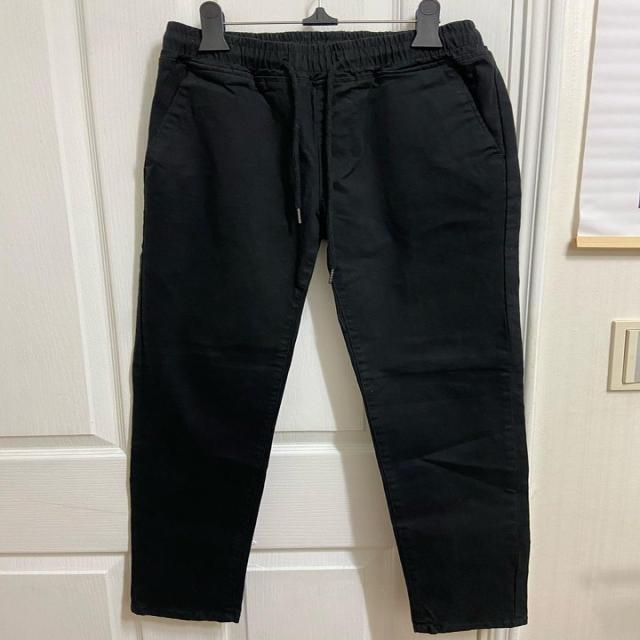long-pants: (132, 20, 534, 632)
